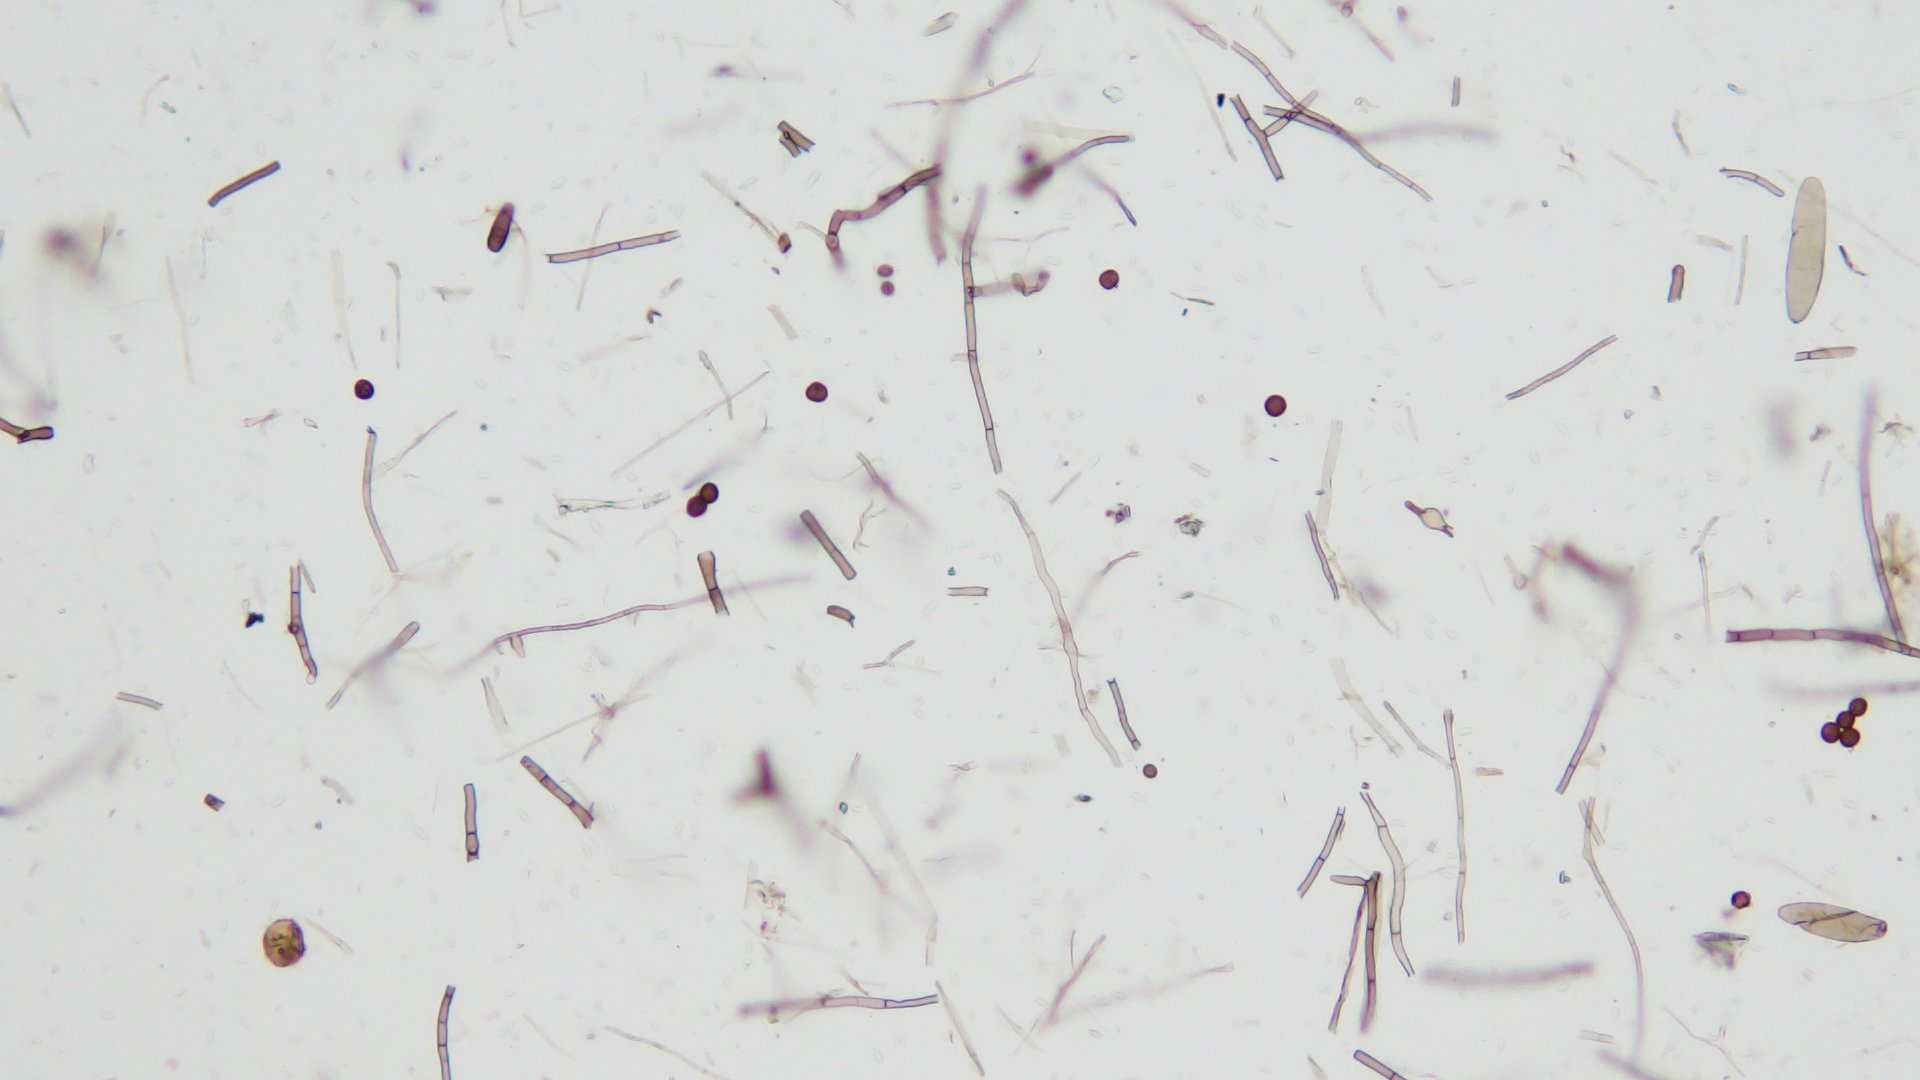dbb_spore: (1783, 174, 1826, 324), (1778, 899, 1890, 945)
shs_spore: (1265, 393, 1287, 418), (352, 378, 376, 400), (698, 481, 719, 502), (1818, 723, 1840, 744), (804, 382, 828, 401), (1098, 268, 1117, 290), (684, 498, 705, 517), (1842, 729, 1861, 748), (1836, 712, 1855, 729), (1849, 698, 1869, 713)
xb_spore: (262, 920, 305, 969)
